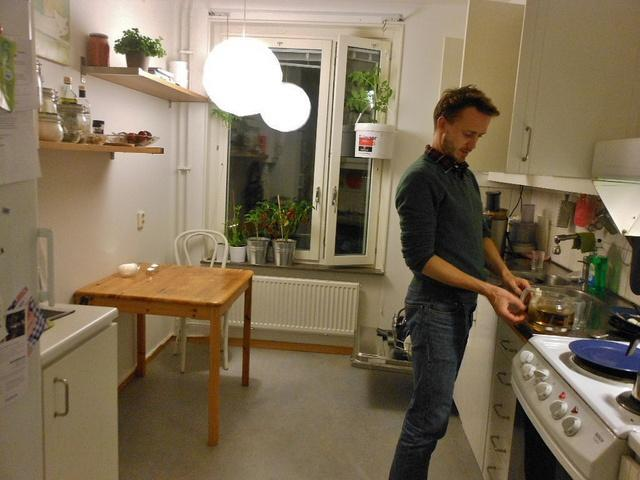Meja: (72, 262, 254, 446)
